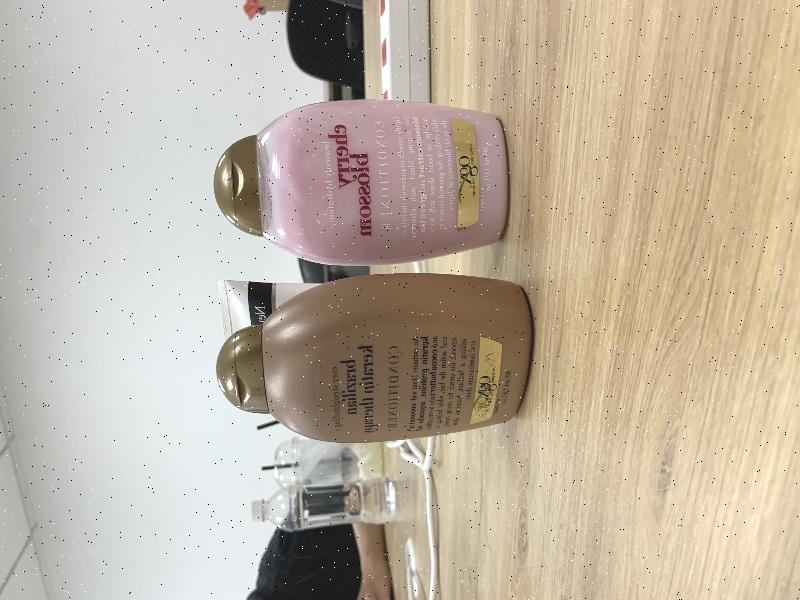BrazilianKerationTherapy_Conditioner: (217, 272, 532, 443)
CherryBlossom_Conditioner: (214, 99, 509, 267)
